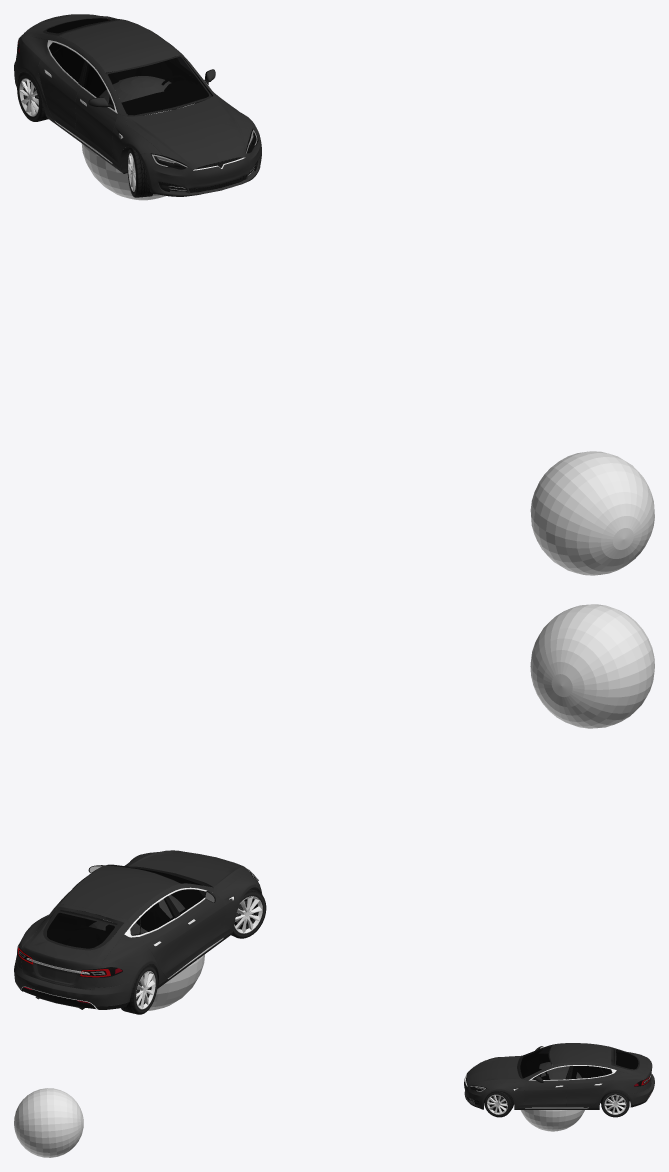
3 renders of one model, top to bottom at view 1: azimuth 30°, elevation 25°; view 2: azimuth 150°, elevation 25°; view 3: azimuth 270°, elevation 25°, orthographic. The views are drawn at different scales.
Parts seen in each view (by area): view 1: object.005_bod_0, Sphere, object.008_Material.002_0, object.001_int_0, Sphere.001, object.004_glack_0, object.007_flack_0, wheel.002, wheel.001; view 2: object.005_bod_0, Sphere, object.008_Material.002_0, object.001_int_0, Sphere.001, object.004_glack_0, wheel.001, wheel.002, object.007_flack_0, object.006_chr_0; view 3: object.005_bod_0, Sphere, object.008_Material.002_0, Sphere.001, object.001_int_0, wheel, wheel.003, object.006_chr_0, object.004_glack_0, object.007_flack_0.
Boxes of the visible parts, x1,y1,x2,y2 form: object.005_bod_0: [14, 14, 261, 196]; Sphere: [530, 451, 654, 575]; object.008_Material.002_0: [46, 18, 208, 115]; object.001_int_0: [47, 19, 208, 114]; Sphere.001: [81, 76, 194, 200]; object.004_glack_0: [17, 19, 257, 196]; object.007_flack_0: [17, 17, 246, 196]; wheel.002: [17, 72, 48, 121]; wheel.001: [127, 147, 152, 197]; object.005_bod_0: [14, 850, 262, 1009]; Sphere: [530, 604, 654, 728]; object.008_Material.002_0: [47, 867, 203, 948]; object.001_int_0: [47, 873, 203, 964]; Sphere.001: [89, 895, 204, 1010]; object.004_glack_0: [17, 865, 257, 1009]; wheel.001: [231, 888, 266, 938]; wheel.002: [121, 964, 157, 1014]; object.007_flack_0: [24, 866, 260, 986]; object.006_chr_0: [21, 887, 233, 1009]; object.005_bod_0: [464, 1043, 654, 1109]; Sphere: [14, 1088, 83, 1157]; object.008_Material.002_0: [520, 1045, 638, 1079]; Sphere.001: [520, 1062, 584, 1131]; object.001_int_0: [520, 1052, 637, 1079]; wheel: [484, 1091, 513, 1117]; wheel.003: [601, 1091, 629, 1117]; object.006_chr_0: [464, 1065, 651, 1108]; object.004_glack_0: [470, 1045, 652, 1109]; object.007_flack_0: [483, 1045, 639, 1108].
Bounding box in the file's own units: 2.38 × 3.25 × 18.33.
Materials: 20 (4 with a texture image).
